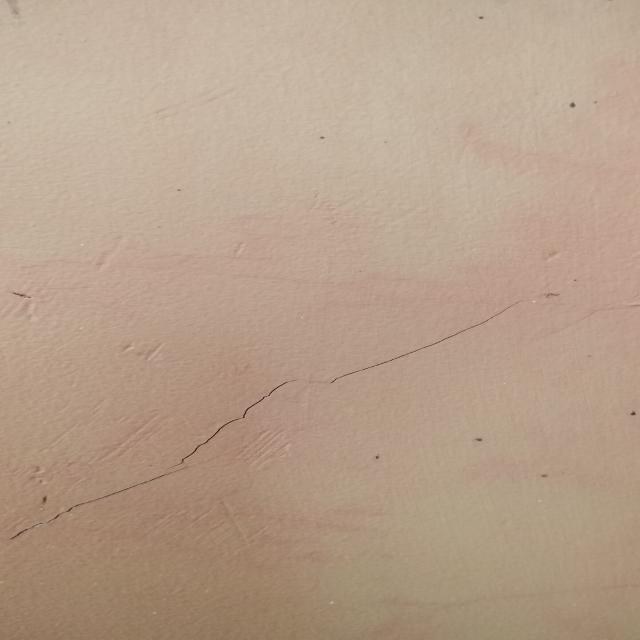Crack: (4, 290, 541, 550)
